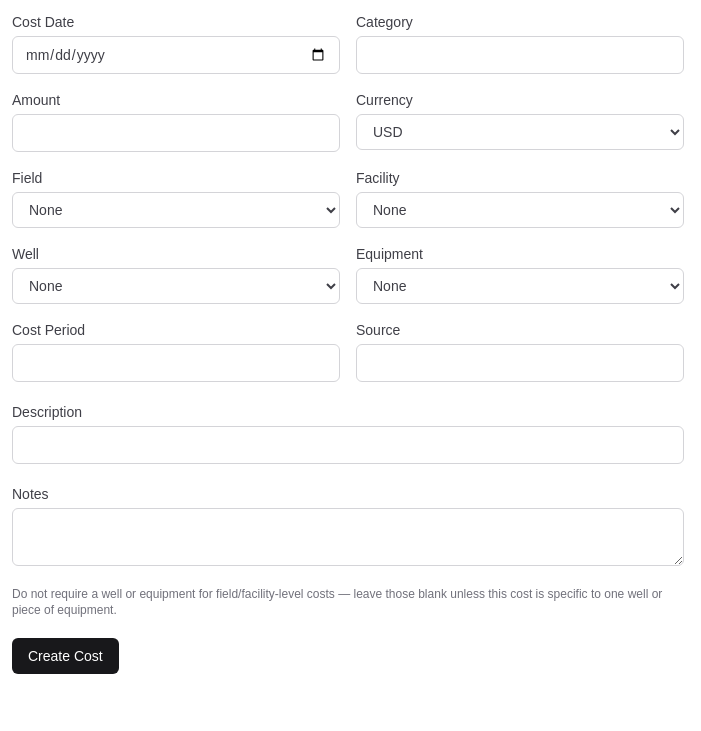
Scenario: OperatingCostForm › shows validation errors when required fields are missing
This screenshot has width=701, height=731.
Click the button "Create Cost": (65, 656) [12,638,119,674]
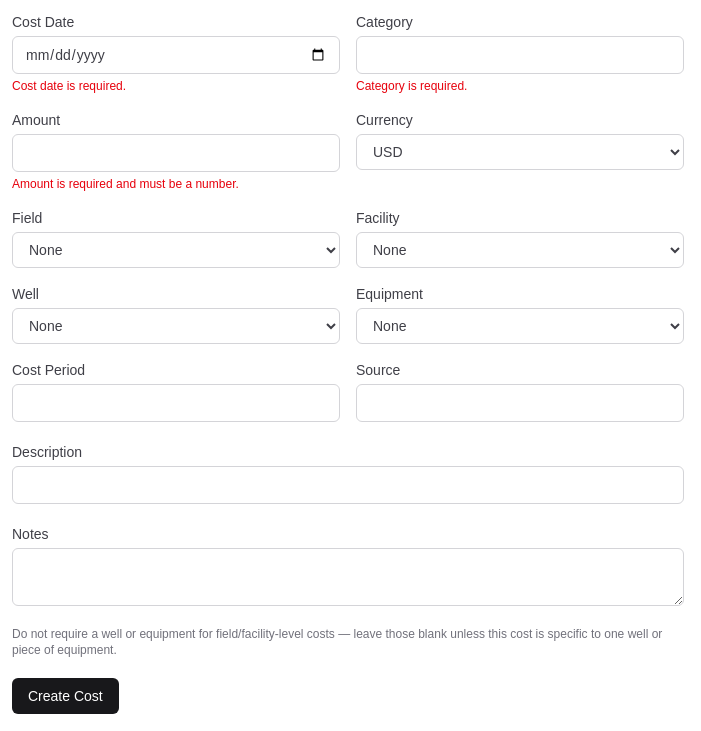
Expected: the text "Cost date is required." is shown, [12,79,126,93]
Expected: the text "Category is required." is shown, [356,79,467,93]
Expected: the text "Amount is required and must be a number." is shown, [12,177,239,191]
